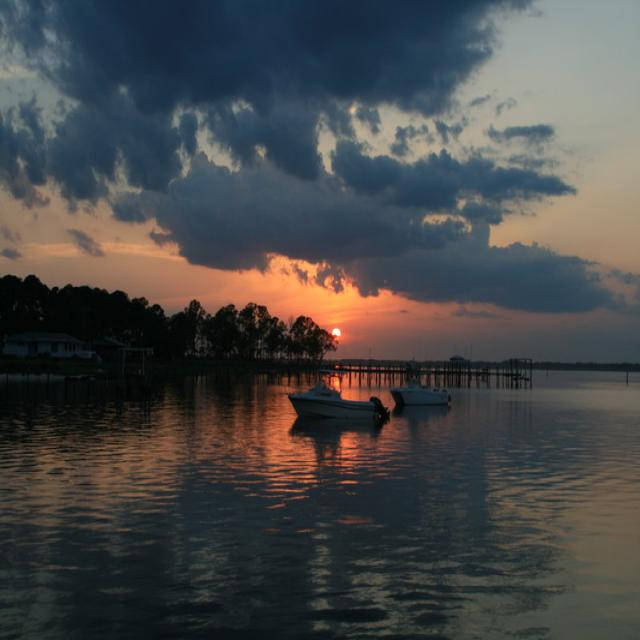Boat: (299, 371, 404, 450), (393, 357, 464, 437)
